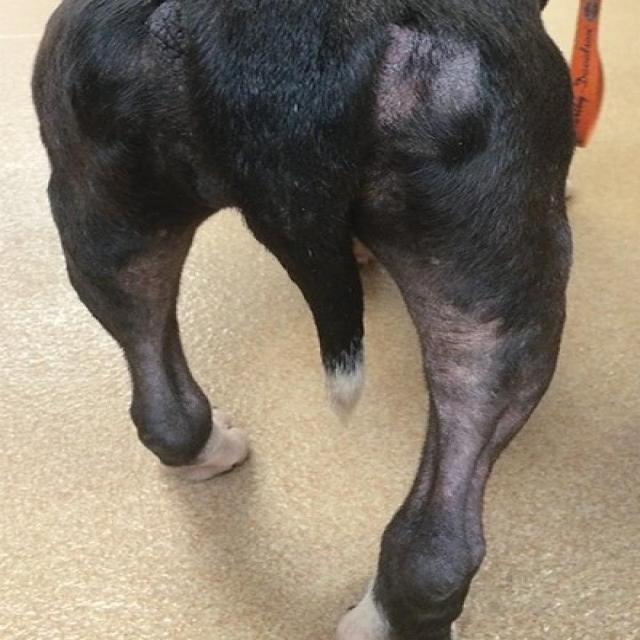allergic dermatitis: (422, 281, 493, 553), (371, 28, 482, 141)
